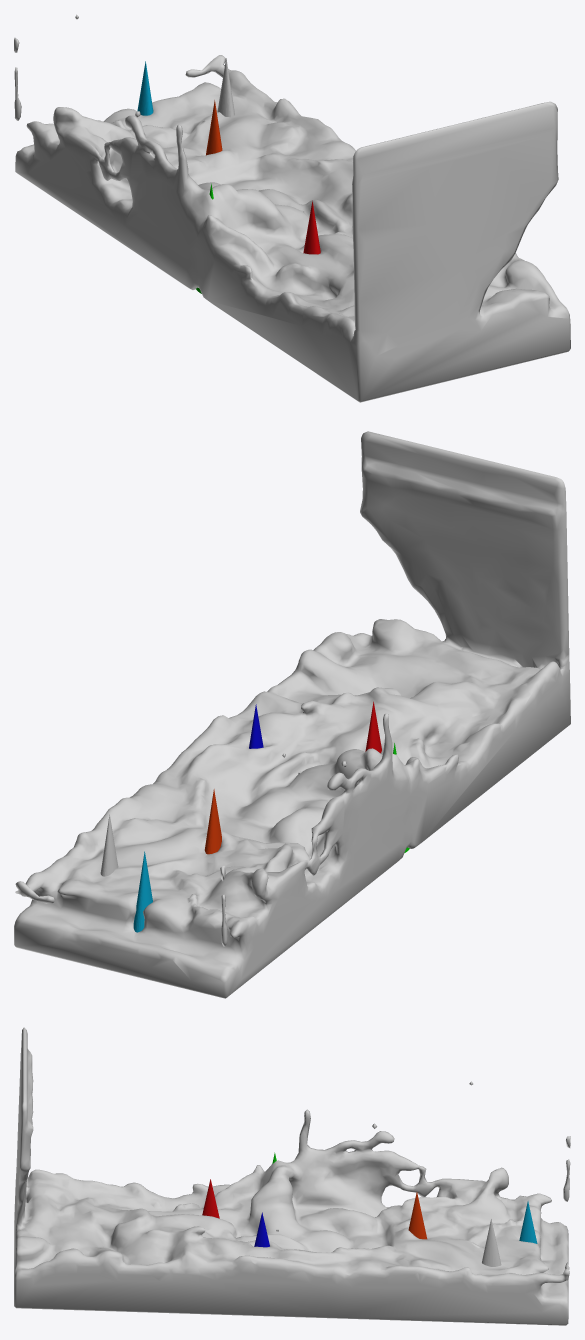
3 renders of one model, top to bottom at view 1: azimuth 30°, elevation 25°; view 2: azimuth 150°, elevation 25°; view 3: azimuth 270°, elevation 25°, orthographic. The views are drawn at different scales.
Parts seen in each view (by area): view 1: Liquid_Domain, 円錐, 円錐.001, 円錐.005, 円錐.004; view 2: Liquid_Domain, 円錐.005; view 3: Liquid_Domain, 円錐, 円錐.004, 円錐.005.
Part boxes in pixels (<box>): Liquid_Domain: <box>14,14,570,402</box>; 円錐: <box>217,58,234,117</box>; 円錐.001: <box>303,200,320,254</box>; 円錐.005: <box>137,61,153,115</box>; 円錐.004: <box>206,100,222,155</box>; Liquid_Domain: <box>14,431,570,998</box>; 円錐.005: <box>133,851,152,932</box>; Liquid_Domain: <box>14,1027,570,1325</box>; 円錐: <box>482,1219,501,1266</box>; 円錐.004: <box>408,1192,427,1239</box>; 円錐.005: <box>519,1201,537,1243</box>.
Bounding box in the file's own units: 129 × 158 × 363.
